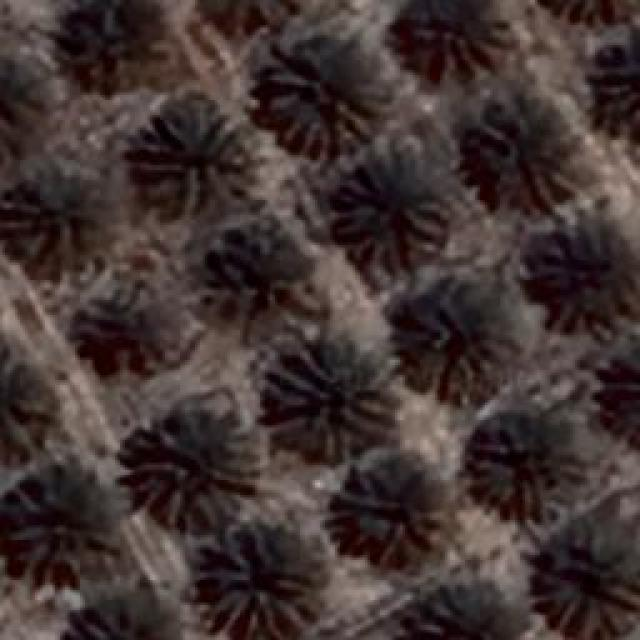PalmTree: (264, 338, 398, 460), (122, 412, 260, 530), (334, 145, 448, 270), (262, 42, 382, 156), (195, 522, 315, 636), (202, 235, 322, 348), (3, 482, 126, 578), (400, 284, 505, 396), (142, 105, 248, 213), (534, 534, 638, 638), (340, 468, 445, 560), (468, 420, 562, 522), (8, 172, 102, 266), (61, 0, 161, 85), (397, 0, 505, 78), (466, 102, 559, 192), (530, 234, 630, 316), (404, 572, 524, 640), (91, 296, 169, 384), (588, 335, 640, 457), (0, 50, 52, 162), (0, 348, 55, 450), (592, 42, 640, 142), (56, 597, 166, 640), (200, 0, 302, 35), (538, 0, 640, 35)
